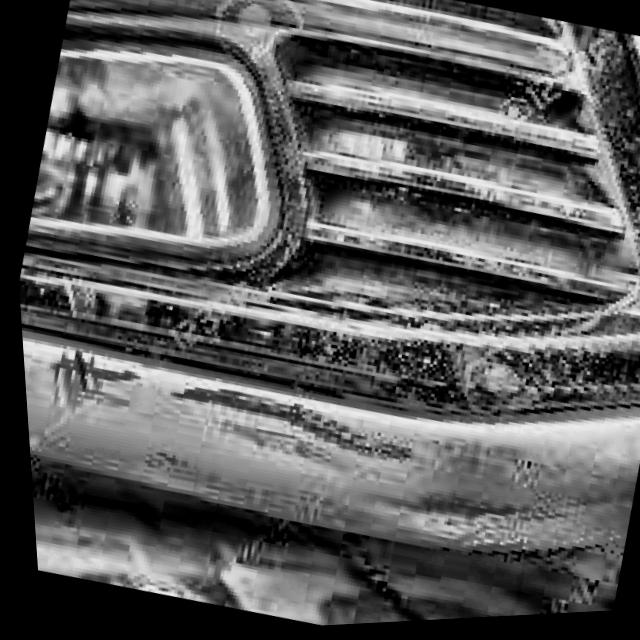bumper_scratch: (34, 319, 432, 521)
